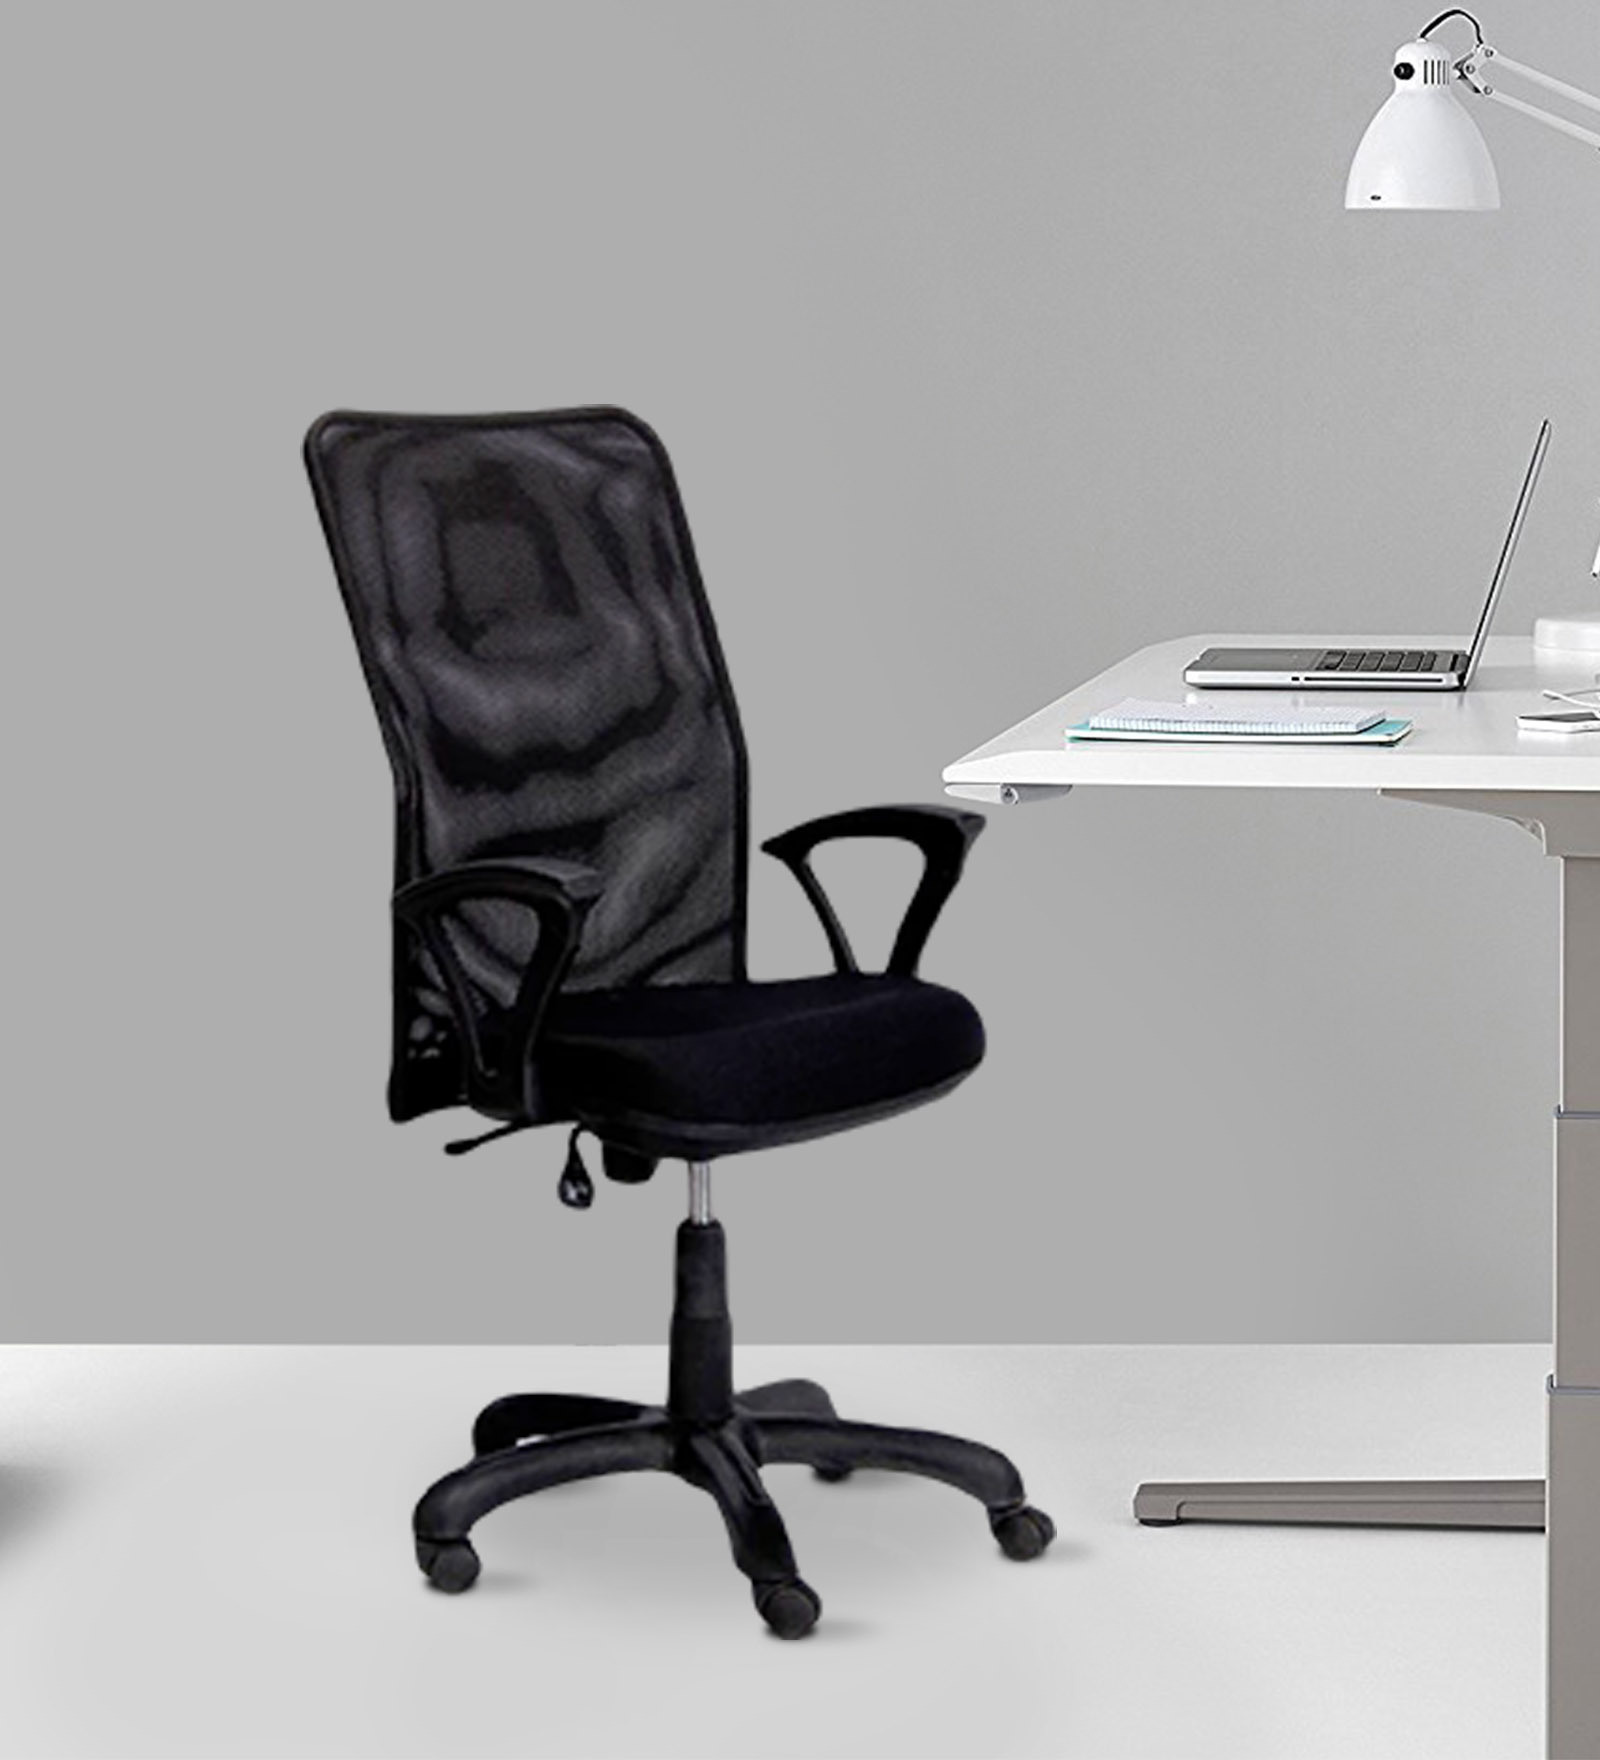Medium Back Ergonomic Chair in Black Colour by Adiko Systems: (293, 399, 1065, 1645)
